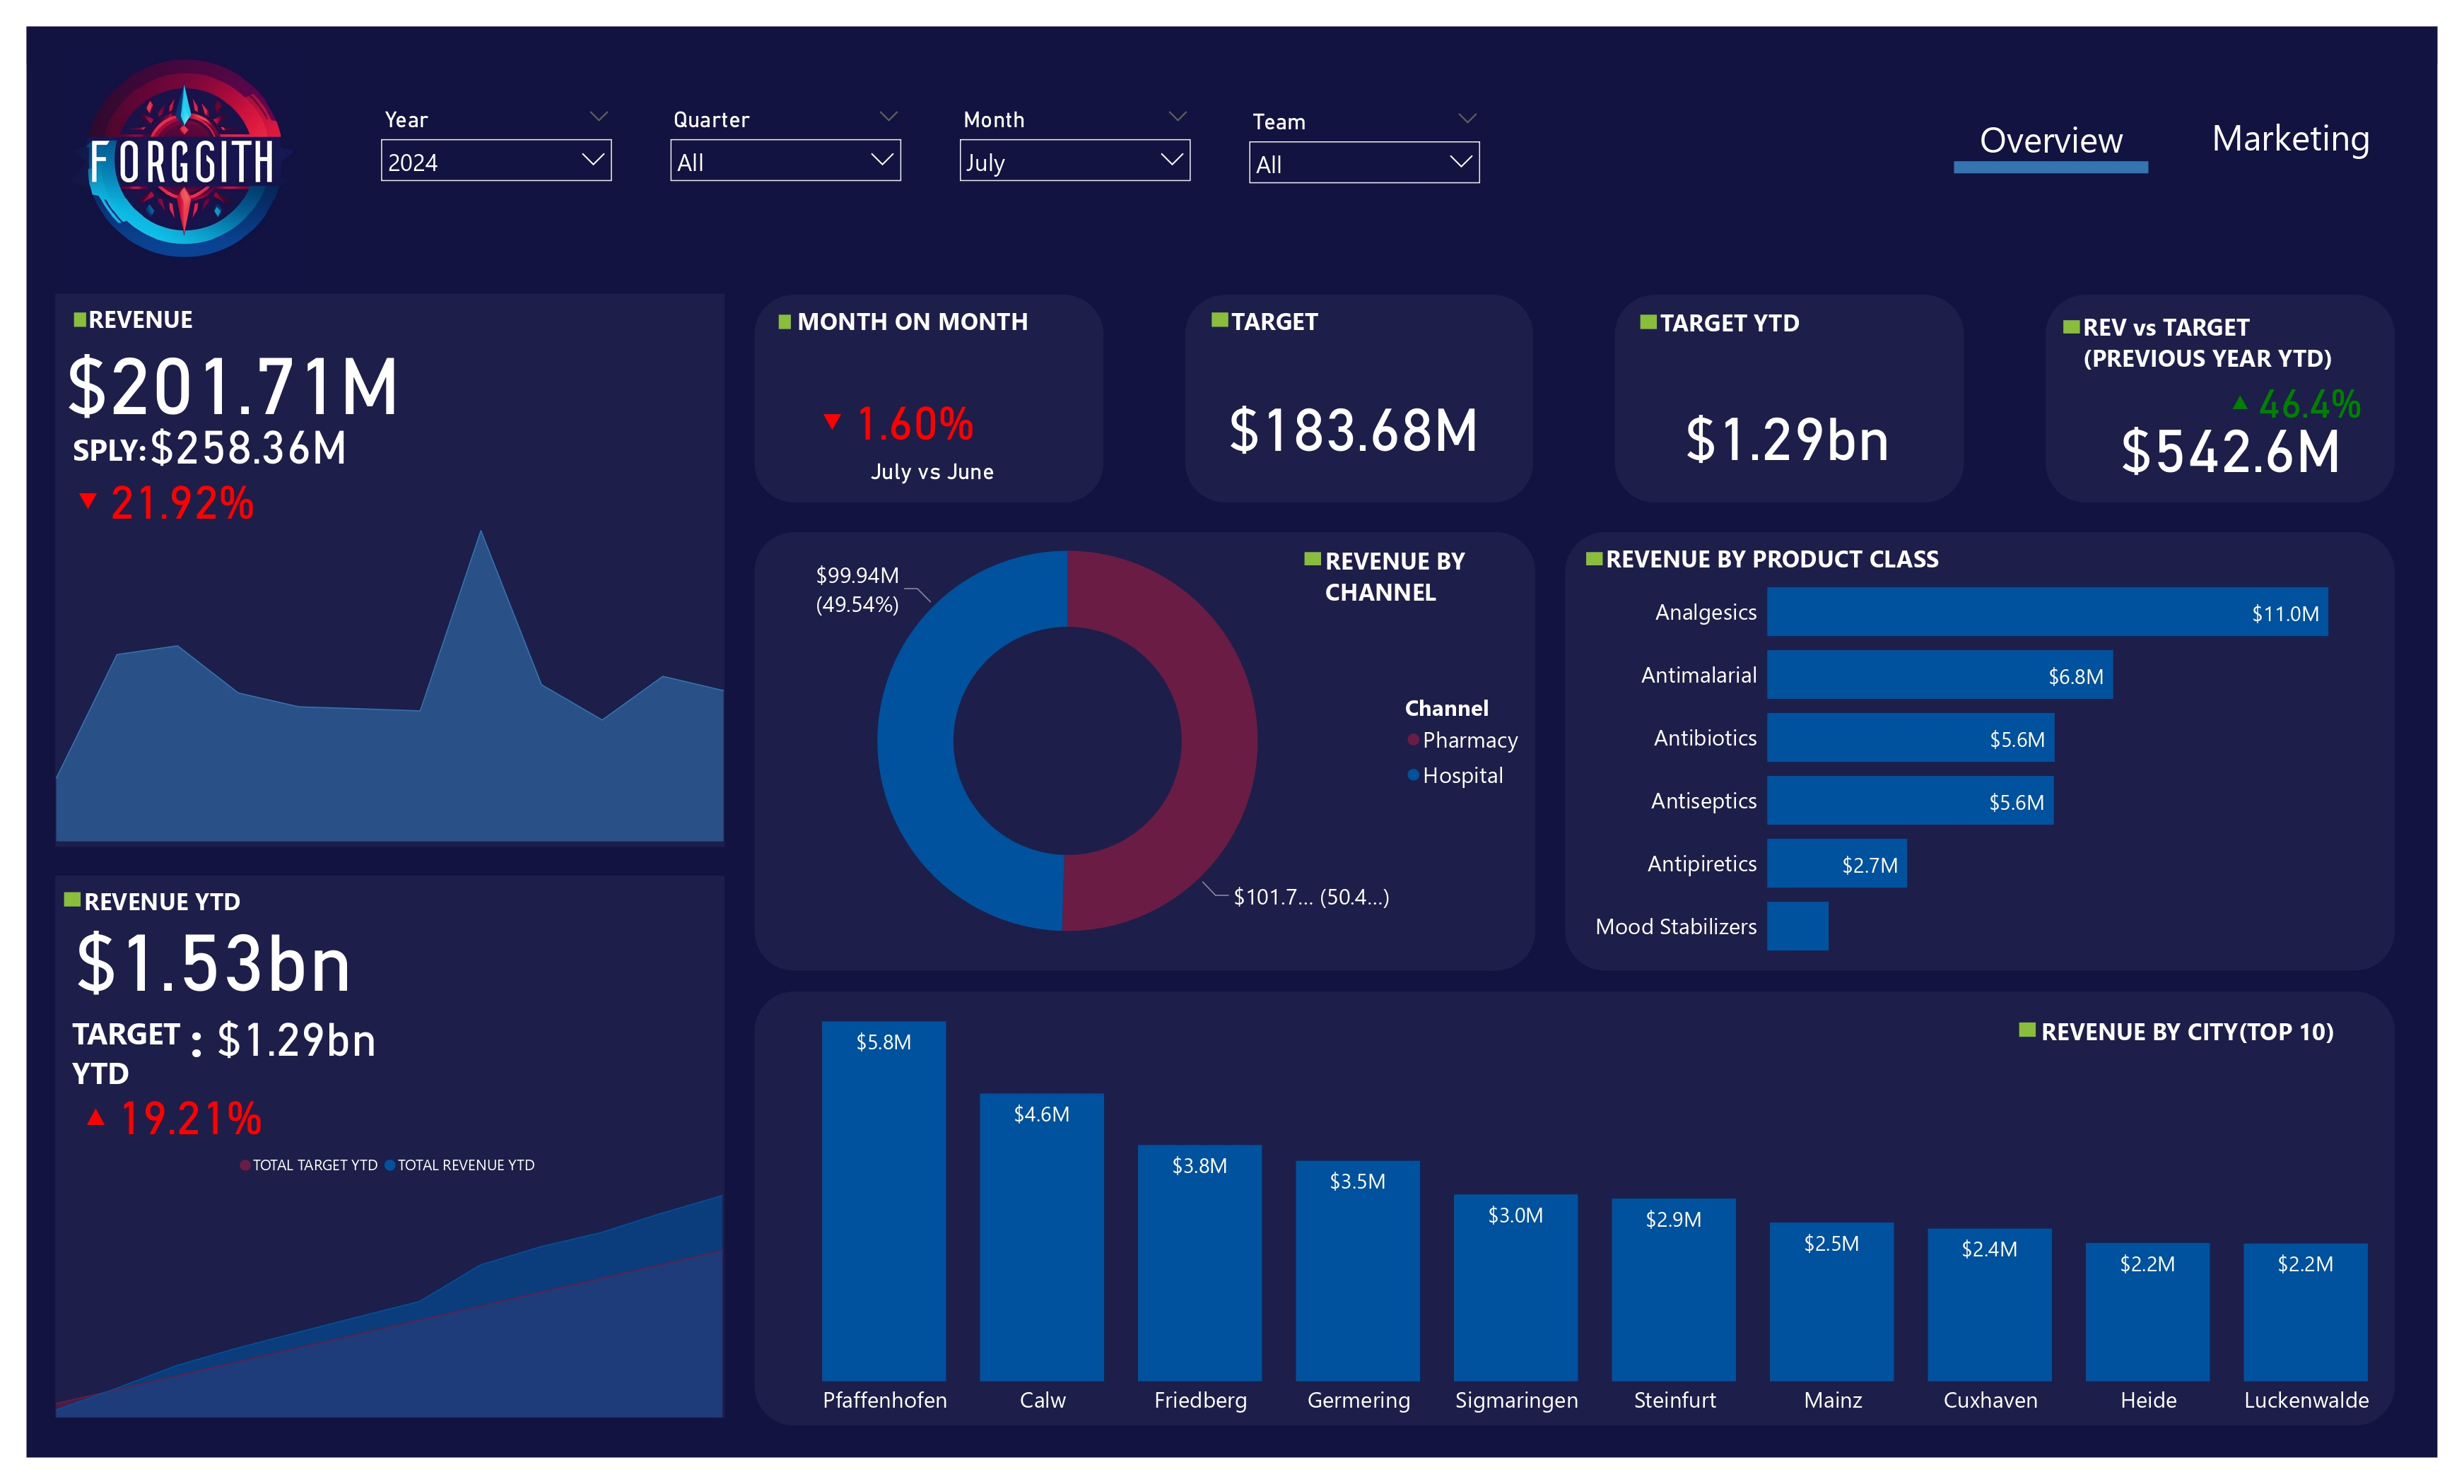

The dashboard page shown, as its layout file describes it:
{"tool":"powerbi","page":{"name":"Overview","canvas":[2183,1296],"ordinal":0},"visuals":[{"type":"image","box":[32.5,16.2,218,226.6],"z":0},{"type":"slicer","fields":{"Values":["Calendar.Year"]},"box":[311.2,67.2,228.4,77],"z":1000},{"type":"slicer","fields":{"Values":["Calendar.Quarter"]},"box":[573.2,67.2,228.4,77],"z":2000},{"type":"slicer","fields":{"Values":["Calendar.Month Name"]},"box":[835.1,67.2,228.4,77],"z":3000},{"type":"slicer","fields":{"Values":["DimEmployees.Team"]},"box":[1097.1,69.4,228.4,77],"z":4000},{"type":"actionButton","box":[1755.8,74.8,154.8,43.9],"z":5000},{"type":"actionButton","box":[1967,68.5,167.3,58.6],"z":6000},{"type":"shape","box":[1744.7,121.8,176,11],"z":7000},{"type":"shape","box":[25.8,768.9,606.4,491.5],"z":8000},{"type":"shape","box":[25.8,241.8,606.4,501.4],"z":9000},{"type":"shape","box":[658.8,874.3,1485,393.2],"z":10000},{"type":"shape","box":[658.8,458,706.9,397.4],"z":11000},{"type":"cardVisual","fields":{"Data":["Measure.TOTAL REVENUE"]},"box":[17.8,259.2,397.7,112.8],"z":12000},{"type":"donutChart","fields":{"Category":["DimChannels.Channel"],"Y":["Measure.TOTAL REVENUE"]},"box":[632.2,398.3,733.2,497.4],"z":13000},{"type":"columnChart","fields":{"Category":["DimLocation.City"],"Y":["Measure.TOTAL REVENUE"]},"box":[658,874,1526,394],"z":14000},{"type":"shape","box":[1392.9,458,750.9,397.4],"z":15000},{"type":"shape","box":[1828,242.6,315.8,188.2],"z":16000},{"type":"shape","box":[1438.3,242.6,315.8,188.2],"z":17000},{"type":"shape","box":[1048.5,242.6,315.8,188.2],"z":18000},{"type":"shape","box":[658.8,242.6,315.8,188.2],"z":19000},{"type":"barChart","fields":{"Y":["Measure.TOTAL REVENUE"],"Category":["DimProducts.ProductClass"]},"box":[1403,471.6,731.2,394.4],"z":20000},{"type":"areaChart","fields":{"Category":["Calendar.Month Name"],"Y":["Measure.TOTAL REVENUE"]},"box":[0,430.9,658.2,312.7],"z":21000},{"type":"textbox","box":[36.8,359.4,107,55.5],"z":22000},{"type":"cardVisual","fields":{"Data":["Measure.TOTAL REVENUE SPLY"]},"box":[94.3,331.6,315.1,89.2],"z":23000},{"type":"cardVisual","fields":{"Data":["Measure.SPLY VS"]},"box":[19,381.2,319,89.2],"z":24000},{"type":"cardVisual","fields":{"Data":["Measure.ACTUAL YTD VS TARGET YTD"]},"box":[25.7,938,231.5,73.2],"z":25000},{"type":"textbox","box":[35.7,887.9,140.7,97.1],"z":26000},{"type":"cardVisual","fields":{"Data":["Measure.TOTAL TARGET YTD"]},"box":[154.6,868,313.1,91.2],"z":27000},{"type":"cardVisual","fields":{"Data":["Measure.REVENUE MoM"]},"box":[692.5,308.7,247.3,89],"z":28000},{"type":"card","fields":{"Values":["Measure.MOM SELECTED"]},"box":[683.7,368.6,273.5,67.4],"z":29000},{"type":"card","fields":{"Values":["Measure.TOTAL TARGET"]},"box":[1048.3,283.4,307.2,150.6],"z":30000},{"type":"card","fields":{"Values":["Measure.TOTAL TARGET YTD"]},"box":[1440.7,291.3,307.2,150.6],"z":31000},{"type":"card","fields":{"Values":["Measure.ACTUAL REVENUE PERFORMANCE PREVIOUS YEAR YTD VS TARGET PREVIOUS YEAR YTD pct"]},"box":[1967.8,307.2,166.5,61.4],"z":32000},{"type":"card","fields":{"Values":["Measure.ACTUAL REVENUE PERFORMANCE PREVIOUS YEAR YTD VS TARGET PREVIOUS YEAR YTD"]},"box":[1819.2,329,352.7,97.1],"z":33000},{"type":"cardVisual","fields":{"Data":["Measure.TOTAL REVENUE YTD"]},"box":[25.8,778.9,372.6,126.8],"z":34000},{"type":"textbox","box":[142.7,881.9,33.7,89.2],"z":35000},{"type":"areaChart","fields":{"Y":["Measure.TOTAL TARGET YTD","Measure.TOTAL REVENUE YTD"],"Category":["Calendar.Month Name"]},"box":[0,1011.1,656.9,255.2],"z":36000},{"type":"textbox","box":[51.4,245.3,142.5,45.5],"z":37000},{"type":"textbox","box":[47.5,771.7,219.6,45.5],"z":38000},{"type":"shape","box":[34.3,784,15,12.9],"z":39000},{"type":"shape","box":[42.8,259.2,10.7,12.9],"z":40000},{"type":"shape","box":[681.2,261.3,10.7,12.9],"z":41000},{"type":"textbox","box":[692.5,247.3,243.4,81.1],"z":42000},{"type":"textbox","box":[1086.3,247.3,114.8,57.4],"z":43000},{"type":"shape","box":[1073.2,259.2,15,12.9],"z":44000},{"type":"textbox","box":[1473.8,248.5,171.4,57.8],"z":45000},{"type":"shape","box":[1460.9,261.3,15,12.9],"z":46000},{"type":"textbox","box":[1856.8,251.7,277.4,79.3],"z":47000},{"type":"shape","box":[1844.4,265.6,15,12.9],"z":48000},{"type":"textbox","box":[1171.2,463.7,168.4,77.3],"z":49000},{"type":"textbox","box":[1424.8,461.7,432,77.3],"z":50000},{"type":"textbox","box":[1819.2,889.8,325,53.5],"z":51000},{"type":"shape","box":[1156.8,475.6,15,12.9],"z":52000},{"type":"shape","box":[1411.7,475.6,15,12.9],"z":53000},{"type":"shape","box":[1803.7,901.8,15,12.9],"z":54000}]}

Visuals, with their boxes on the page's 2183x1296 design canvas (x1, y1, x2, y2). These are canvas units, not pixel positions in the 2464x1484 screenshot, which may show the page scaled, cropped or inside an application window:
image: detection(32, 16, 250, 243)
slicer - Calendar.Year: detection(311, 67, 540, 144)
slicer - Calendar.Quarter: detection(573, 67, 802, 144)
slicer - Calendar.Month Name: detection(835, 67, 1064, 144)
slicer - DimEmployees.Team: detection(1097, 69, 1326, 146)
actionButton: detection(1756, 75, 1911, 119)
actionButton: detection(1967, 68, 2134, 127)
shape: detection(1745, 122, 1921, 133)
shape: detection(26, 769, 632, 1260)
shape: detection(26, 242, 632, 743)
shape: detection(659, 874, 2144, 1268)
shape: detection(659, 458, 1366, 855)
cardVisual - Measure.TOTAL REVENUE: detection(18, 259, 416, 372)
donutChart - DimChannels.Channel x Measure.TOTAL REVENUE: detection(632, 398, 1365, 896)
columnChart - DimLocation.City x Measure.TOTAL REVENUE: detection(658, 874, 2184, 1268)
shape: detection(1393, 458, 2144, 855)
shape: detection(1828, 243, 2144, 431)
shape: detection(1438, 243, 1754, 431)
shape: detection(1048, 243, 1364, 431)
shape: detection(659, 243, 975, 431)
barChart - Measure.TOTAL REVENUE x DimProducts.ProductClass: detection(1403, 472, 2134, 866)
areaChart - Calendar.Month Name x Measure.TOTAL REVENUE: detection(0, 431, 658, 744)
textbox: detection(37, 359, 144, 415)
cardVisual - Measure.TOTAL REVENUE SPLY: detection(94, 332, 409, 421)
cardVisual - Measure.SPLY VS: detection(19, 381, 338, 470)
cardVisual - Measure.ACTUAL YTD VS TARGET YTD: detection(26, 938, 257, 1011)
textbox: detection(36, 888, 176, 985)
cardVisual - Measure.TOTAL TARGET YTD: detection(155, 868, 468, 959)
cardVisual - Measure.REVENUE MoM: detection(692, 309, 940, 398)
card - Measure.MOM SELECTED: detection(684, 369, 957, 436)
card - Measure.TOTAL TARGET: detection(1048, 283, 1356, 434)
card - Measure.TOTAL TARGET YTD: detection(1441, 291, 1748, 442)
card - Measure.ACTUAL REVENUE PERFORMANCE PREVIOUS YEAR YTD VS TARGET PREVIOUS YEAR YTD pct: detection(1968, 307, 2134, 369)
card - Measure.ACTUAL REVENUE PERFORMANCE PREVIOUS YEAR YTD VS TARGET PREVIOUS YEAR YTD: detection(1819, 329, 2172, 426)
cardVisual - Measure.TOTAL REVENUE YTD: detection(26, 779, 398, 906)
textbox: detection(143, 882, 176, 971)
areaChart - Measure.TOTAL TARGET YTD x Measure.TOTAL REVENUE YTD: detection(0, 1011, 657, 1266)
textbox: detection(51, 245, 194, 291)
textbox: detection(48, 772, 267, 817)
shape: detection(34, 784, 49, 797)
shape: detection(43, 259, 54, 272)
shape: detection(681, 261, 692, 274)
textbox: detection(692, 247, 936, 328)
textbox: detection(1086, 247, 1201, 305)
shape: detection(1073, 259, 1088, 272)
textbox: detection(1474, 248, 1645, 306)
shape: detection(1461, 261, 1476, 274)
textbox: detection(1857, 252, 2134, 331)
shape: detection(1844, 266, 1859, 278)
textbox: detection(1171, 464, 1340, 541)
textbox: detection(1425, 462, 1857, 539)
textbox: detection(1819, 890, 2144, 943)
shape: detection(1157, 476, 1172, 488)
shape: detection(1412, 476, 1427, 488)
shape: detection(1804, 902, 1819, 915)
